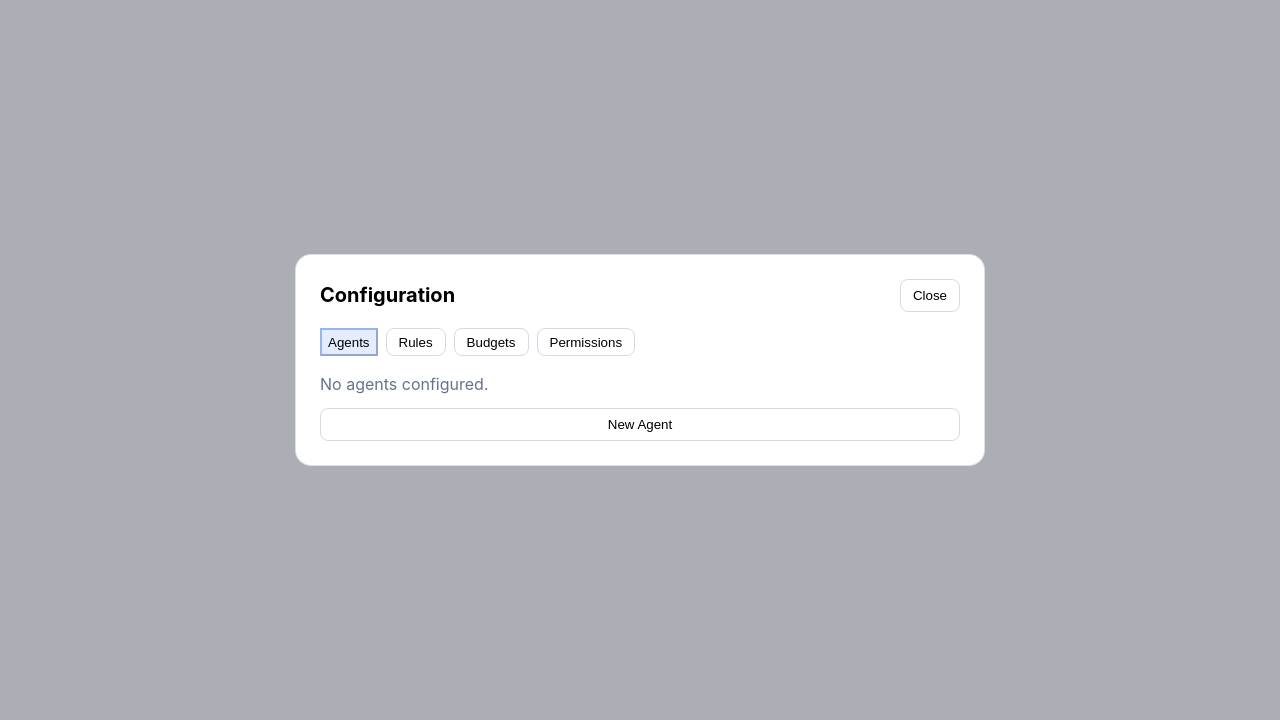
Scenario: ConfigurationDialog › switches to the permissions tab
Click the button with test id "permissions-tab": (586, 342) [536,328,635,356]
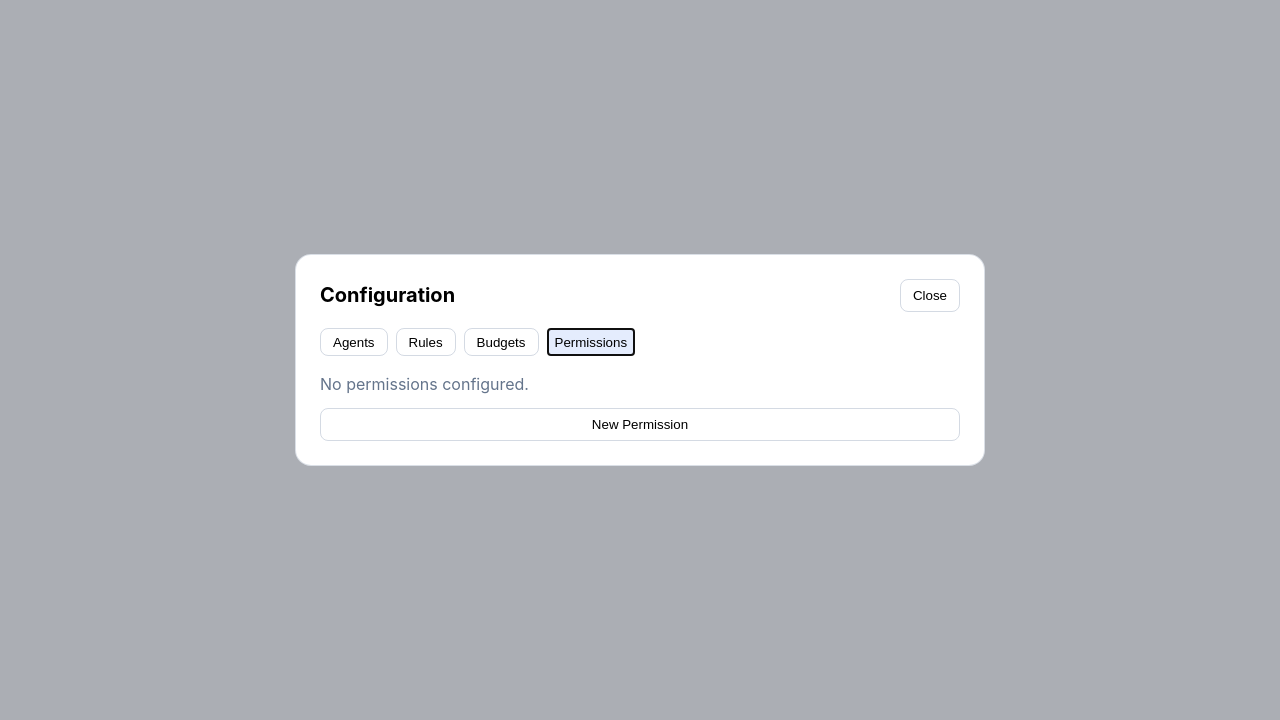
Check: the element with test id "permissions-section" is shown, box [320,372,960,441]
Check: the text "No permissions configured." is shown, box [320,374,529,394]
